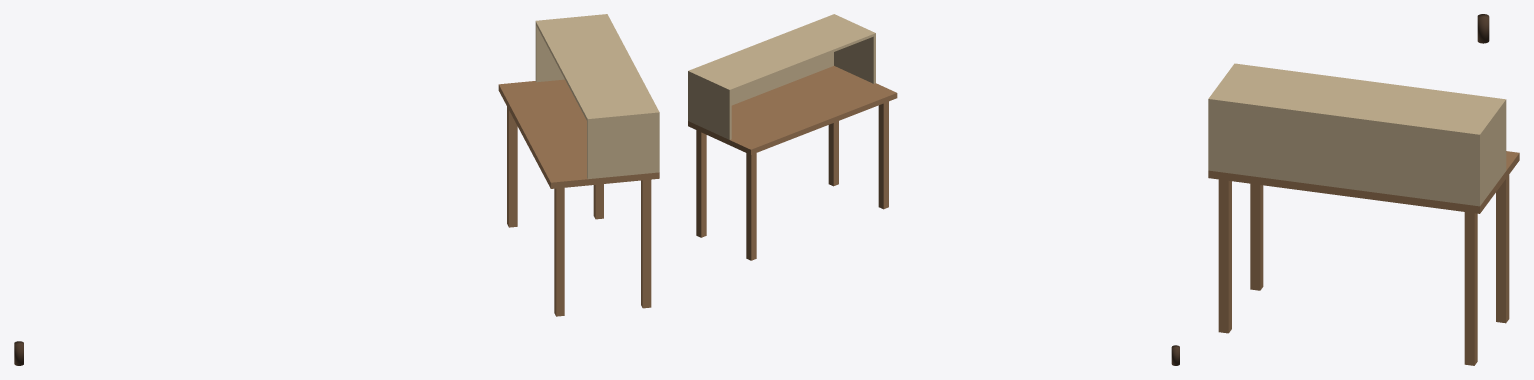
Rendered from h2_01_pickplace_props.glb.
The picture shows the model from 3 angles, left to right: view 1: azimuth 30°, elevation 25°; view 2: azimuth 150°, elevation 25°; view 3: azimuth 270°, elevation 25°; orthographic projection. The views are drawn at different scales.
Parts seen in each view (by area): view 1: s007, s000, s005, s003, s001, s002, s006; view 2: s000, s007, s006, s008, s005, s002, s001, s004, s003; view 3: s008, s007, s000, s006, s003, s004, s002, s001, s005, o00.
Boxes of the visible parts, x1,y1,x2,y2 form: s007: (536, 15, 658, 120); s000: (498, 79, 659, 188); s005: (587, 111, 659, 179); s003: (641, 179, 651, 308); s001: (554, 187, 564, 316); s002: (507, 107, 517, 227); s006: (535, 14, 607, 82); s000: (688, 66, 897, 154); s007: (690, 15, 873, 91); s006: (688, 70, 731, 139); s008: (731, 52, 833, 105); s005: (832, 14, 875, 83); s002: (746, 153, 756, 260); s001: (878, 101, 888, 209); s004: (696, 130, 706, 237); s003: (828, 121, 838, 186); s008: (1212, 103, 1475, 205); s007: (1212, 64, 1501, 137); s000: (1208, 151, 1519, 213); s006: (1476, 99, 1506, 206); s003: (1218, 179, 1231, 333); s004: (1464, 212, 1477, 365); s002: (1496, 175, 1509, 323); s001: (1250, 183, 1263, 290); s005: (1208, 63, 1237, 170); o00: (1477, 14, 1489, 43).
Size of the model in its own units: 3.9 by 1.31 by 1.49.
